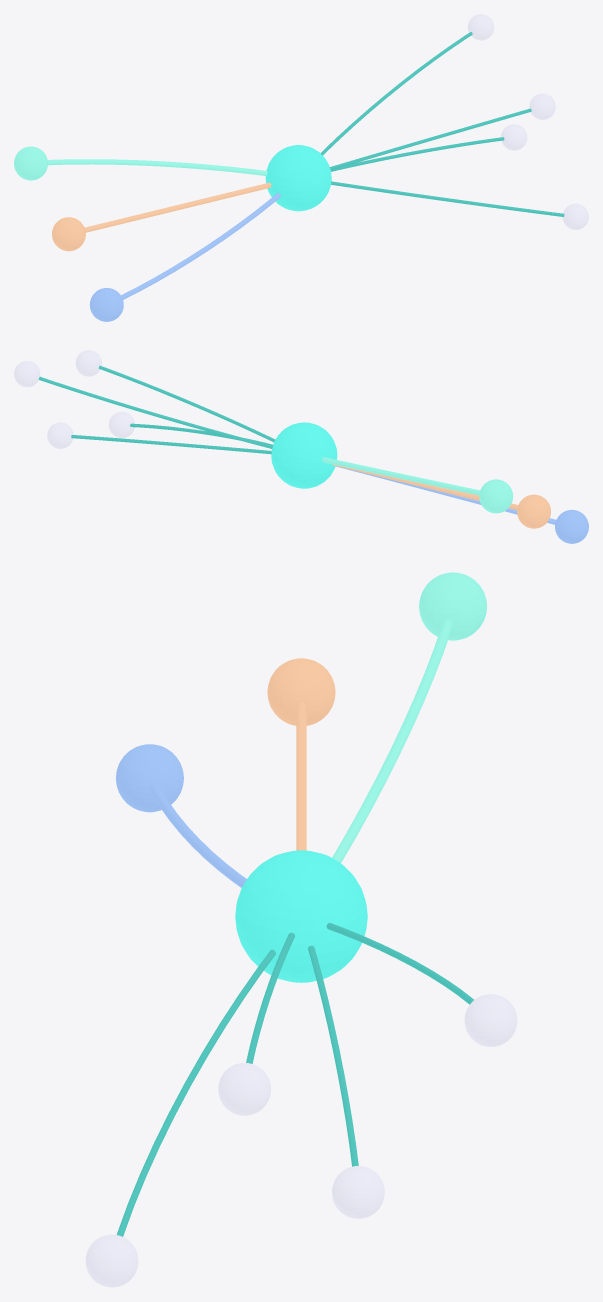
Rendered from llmrates-hero-v1.glb.
The picture shows the model from 3 angles, top to bottom: view 1: azimuth 30°, elevation 25°; view 2: azimuth 150°, elevation 25°; view 3: azimuth 270°, elevation 25°; orthographic projection. The views are drawn at different scales.
Visible parts, largest first — view 1: Hub, Tube_In_0, Tube_In_1, Tube_In_2, Tube_Out_3, Node_Anthropic, Node_Google, Node_OpenAI, Tube_Out_2, Tube_Out_0, Tube_Out_1, Node_stream (+3 smaller); view 2: Hub, Tube_Out_0, Tube_In_0, Node_Google, Node_OpenAI, Node_Anthropic, Tube_Out_1, Tube_Out_2, Tube_In_1, Node_history, Node_context, Node_stream (+3 smaller); view 3: Hub, Node_OpenAI, Node_Anthropic, Node_Google, Tube_In_0, Tube_Out_3, Node_ask, Node_history, Node_stream, Node_context, Tube_Out_1, Tube_In_1 (+3 smaller).
Part boxes in pixels (x1=…): Hub: x1=265, y1=145, x2=331, y2=211; Tube_In_0: x1=47, y1=159, x2=267, y2=176; Tube_In_1: x1=85, y1=182, x2=271, y2=232; Tube_In_2: x1=121, y1=193, x2=280, y2=299; Tube_Out_3: x1=331, y1=181, x2=564, y2=216; Node_Anthropic: x1=52, y1=217, x2=85, y2=251; Node_Google: x1=89, y1=288, x2=123, y2=321; Node_OpenAI: x1=14, y1=146, x2=47, y2=180; Tube_Out_2: x1=330, y1=108, x2=531, y2=170; Tube_Out_0: x1=320, y1=32, x2=472, y2=155; Tube_Out_1: x1=331, y1=137, x2=504, y2=171; Node_stream: x1=529, y1=93, x2=555, y2=119; Hub: x1=271, y1=422, x2=337, y2=488; Tube_Out_0: x1=38, y1=376, x2=272, y2=448; Tube_In_0: x1=322, y1=457, x2=480, y2=495; Node_Google: x1=555, y1=509, x2=588, y2=543; Node_OpenAI: x1=479, y1=479, x2=512, y2=513; Node_Anthropic: x1=517, y1=494, x2=550, y2=528; Tube_Out_1: x1=71, y1=435, x2=271, y2=454; Tube_Out_2: x1=98, y1=365, x2=275, y2=442; Tube_In_1: x1=331, y1=464, x2=518, y2=509; Node_history: x1=14, y1=361, x2=40, y2=387; Node_context: x1=47, y1=422, x2=73, y2=448; Node_stream: x1=75, y1=350, x2=101, y2=376; Hub: x1=235, y1=850, x2=367, y2=982; Node_OpenAI: x1=419, y1=572, x2=486, y2=640; Node_Anthropic: x1=267, y1=658, x2=335, y2=725; Node_Google: x1=115, y1=744, x2=183, y2=812; Tube_In_0: x1=332, y1=619, x2=452, y2=862; Tube_Out_3: x1=116, y1=949, x2=275, y2=1236; Node_ask: x1=85, y1=1234, x2=138, y2=1287; Node_history: x1=464, y1=994, x2=517, y2=1046; Node_stream: x1=218, y1=1062, x2=270, y2=1115; Node_context: x1=332, y1=1166, x2=384, y2=1218; Tube_Out_1: x1=308, y1=945, x2=358, y2=1166; Tube_In_1: x1=296, y1=701, x2=306, y2=850.
Size of the model in its own units: 5.92 by 1.68 by 2.28.
